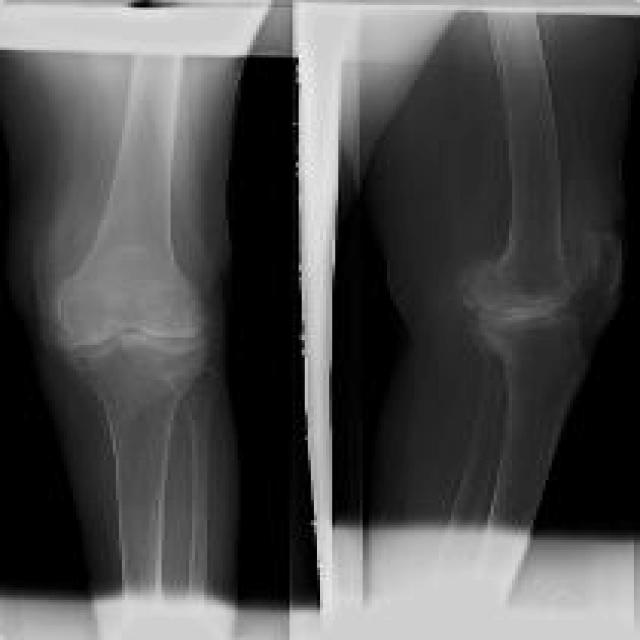normal: (57, 50, 202, 348), (68, 340, 204, 601), (177, 372, 215, 600)
